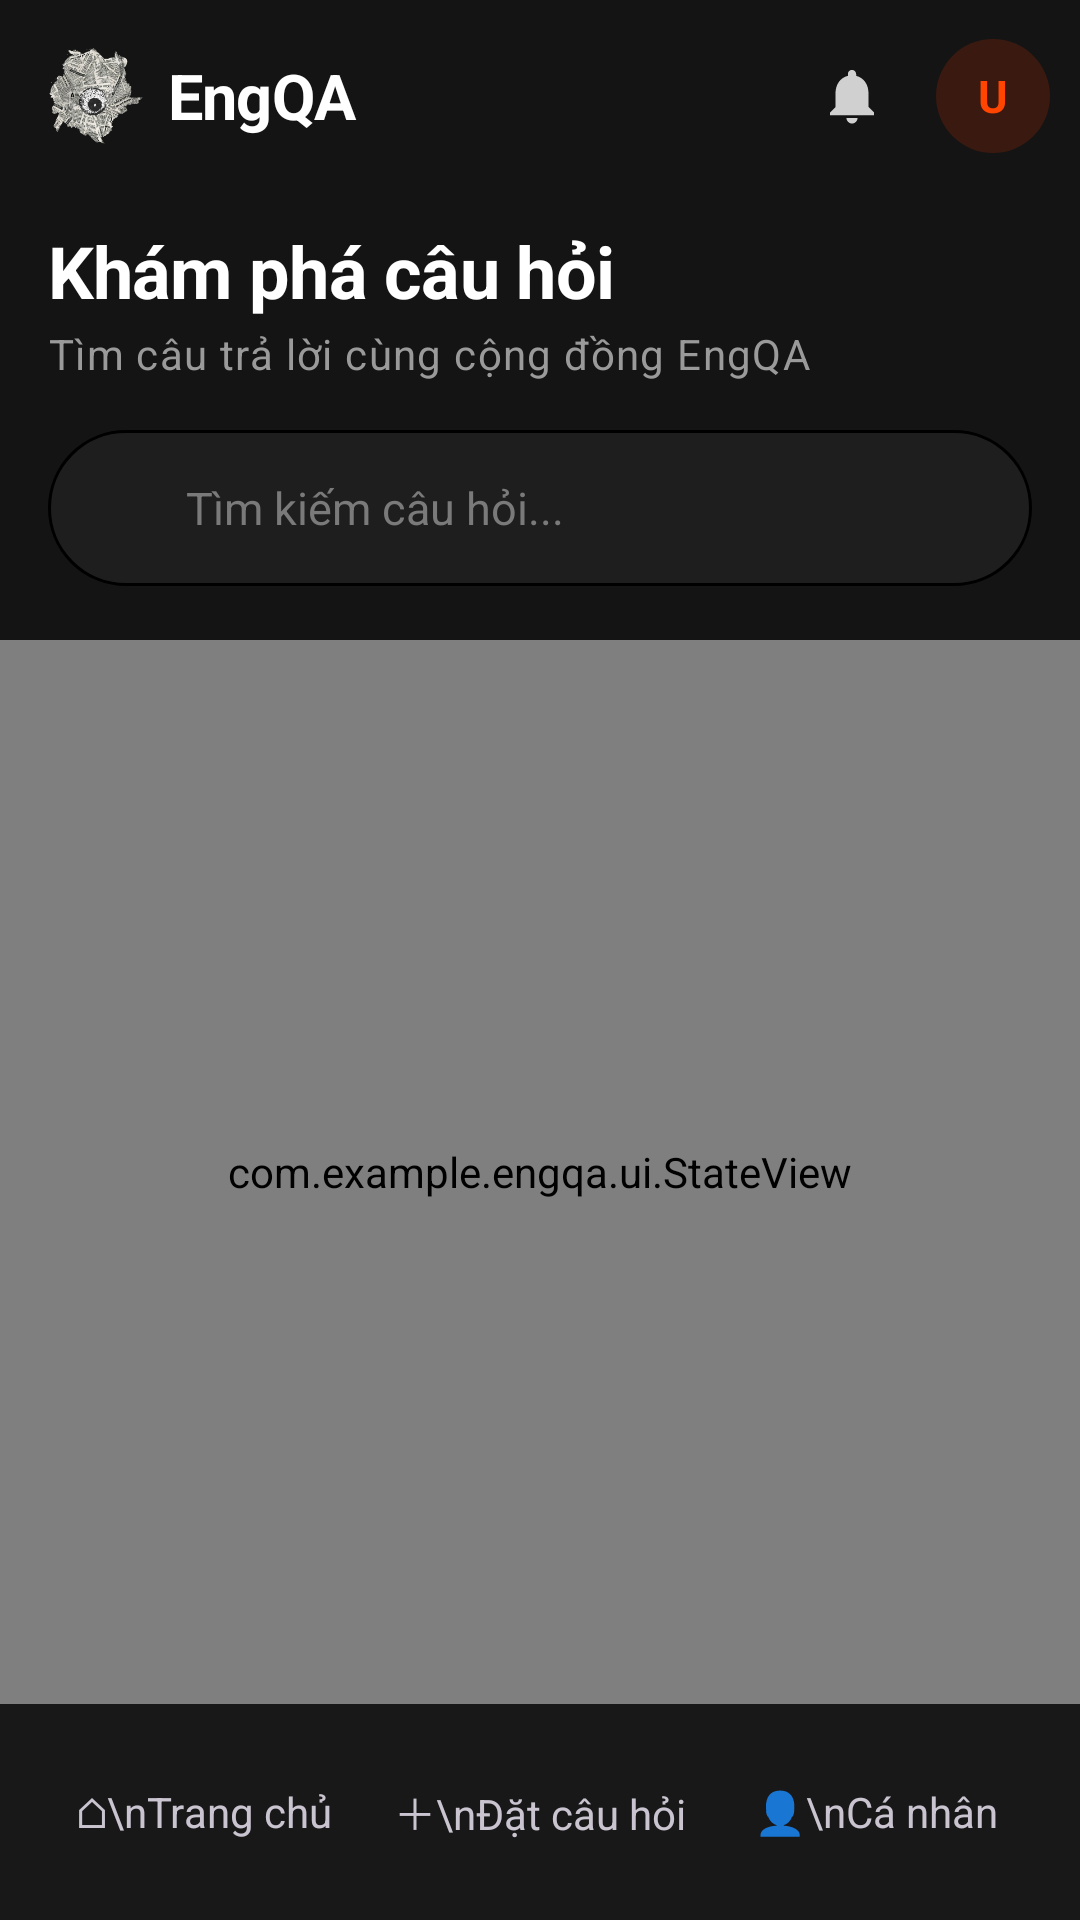

Point at icon controls on the screen. Image size 1080 × 1920, points as (x,y).
Thông báo: (852,97)
